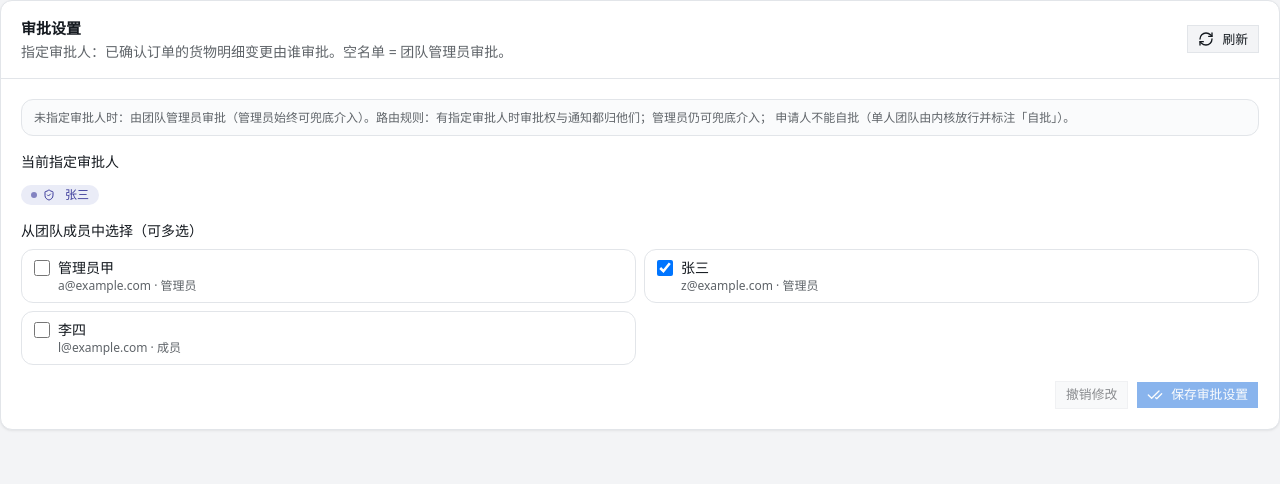
Test: 团队审批设置 › 保存失败：把后端中文原因原样显示，并弹错误 toast
Click the checkbox labelled "李四 l@example.com · 成员" at (42, 330), box [34,322,50,338]
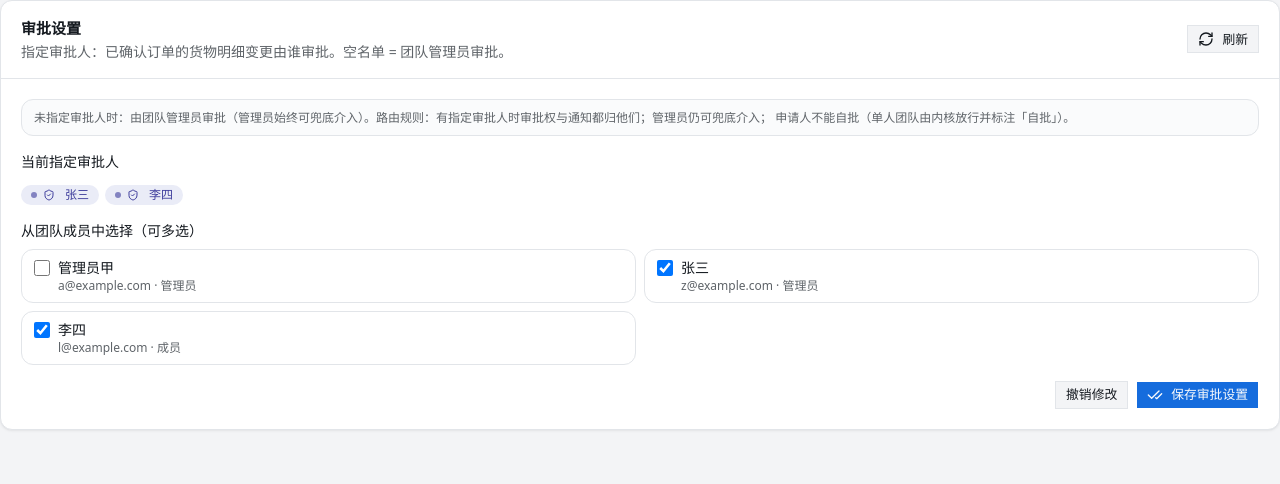
Click the button "保存审批设置" at (1198, 395), box [1136,381,1259,409]
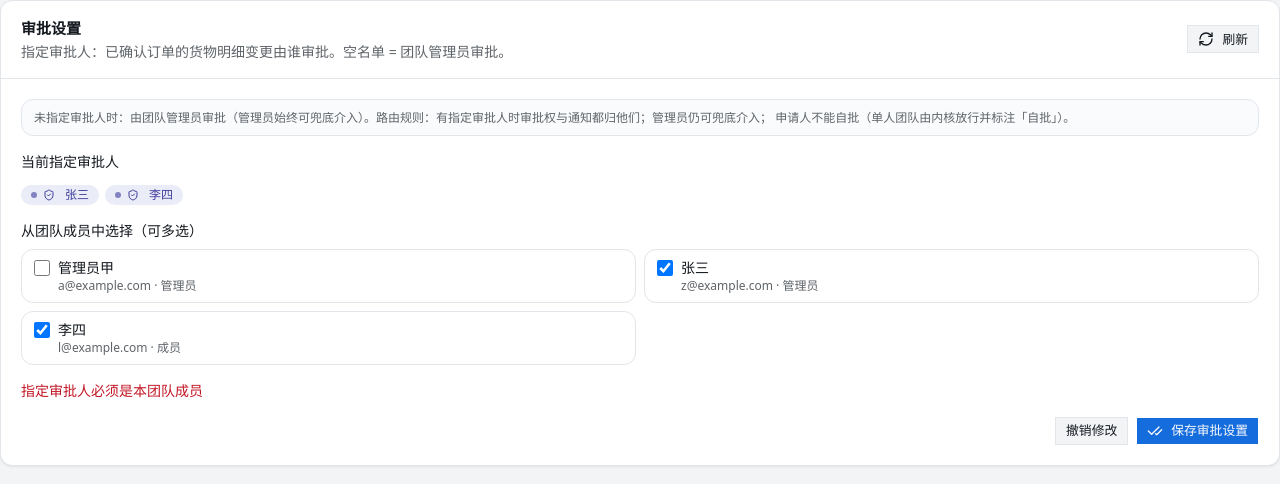
Expected: the message "指定审批人必须是本团队成员" is shown, [21,381,203,400]
